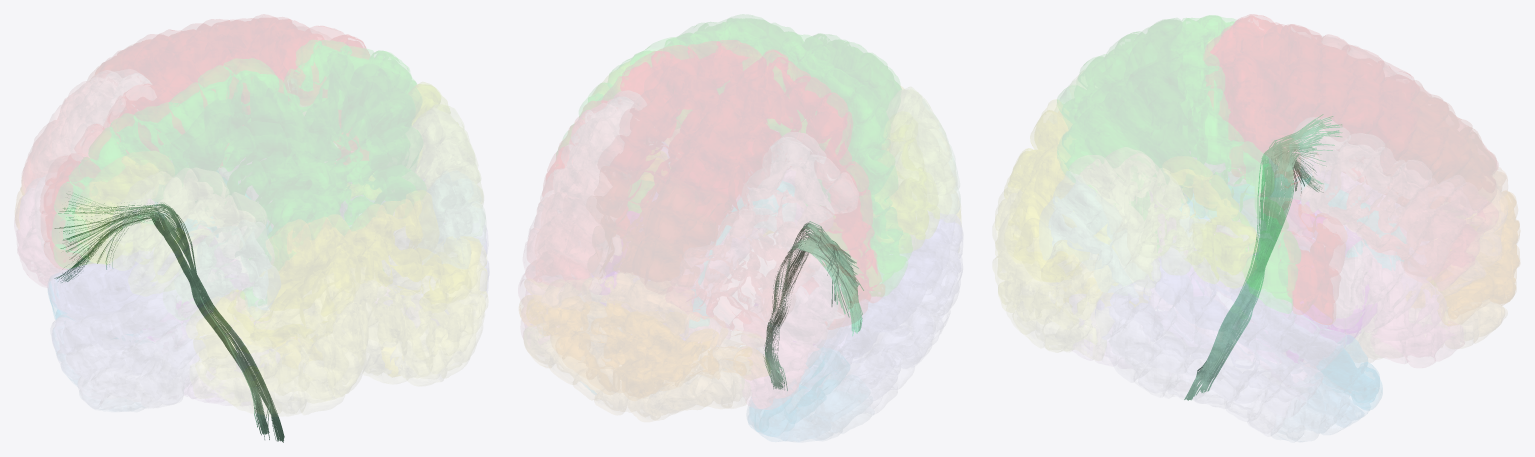
Rendered from CBT_L.glb_glass.glb.
The picture shows the model from 3 angles, left to right: view 1: azimuth 30°, elevation 25°; view 2: azimuth 150°, elevation 25°; view 3: azimuth 270°, elevation 25°; orthographic projection. The views are drawn at different scales.
Visible parts, largest first — view 1: YBA_Glass_Colour, tracts; view 2: YBA_Glass_Colour, tracts; view 3: YBA_Glass_Colour, tracts.
Part boxes in pixels (box(x1,y1,x2,y2)): YBA_Glass_Colour: box(15, 17, 488, 414); tracts: box(54, 193, 284, 442); YBA_Glass_Colour: box(520, 18, 962, 441); tracts: box(763, 221, 863, 390); YBA_Glass_Colour: box(995, 15, 1519, 441); tracts: box(1184, 114, 1342, 400).
Size of the model in its own units: 145 by 139 by 181.
